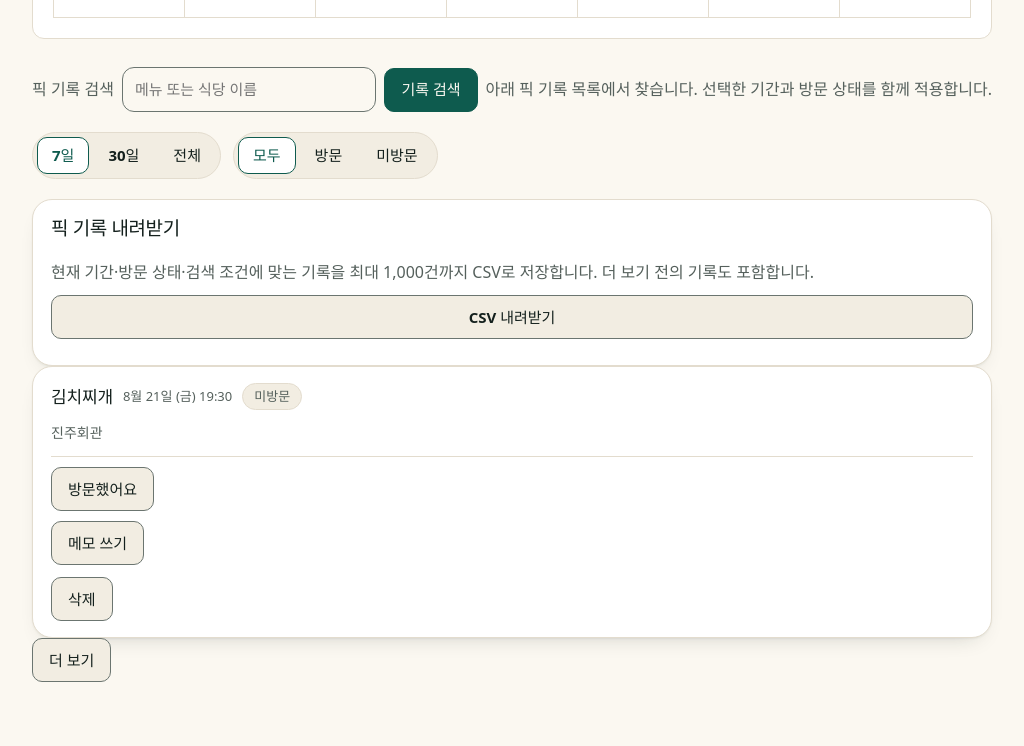
it: 이력의 메뉴 ID로 식당 선택 › 다음 페이지의 기록에도 해당 메뉴 ID를 사용한다
This screenshot has width=1024, height=746.
(page scrolled)
Click the button "더 보기" at [72, 660], box [32, 638, 111, 682]
(page scrolled)
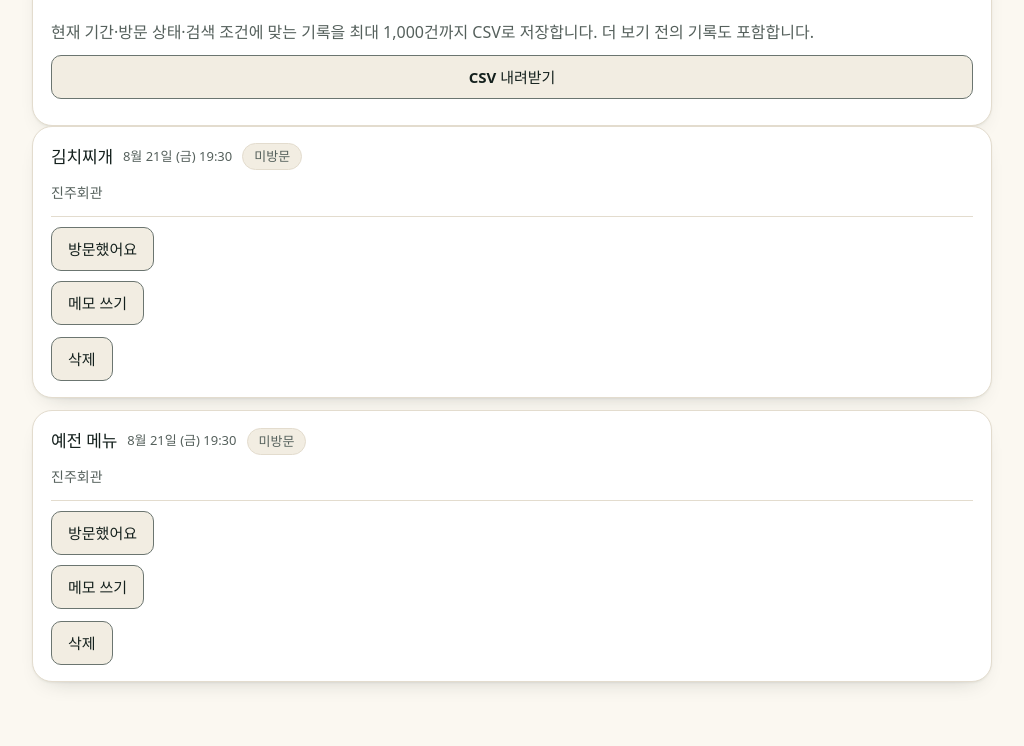
Click the button with aria-label "예전 메뉴 방문했어요" at [102, 533], box [51, 511, 154, 555]
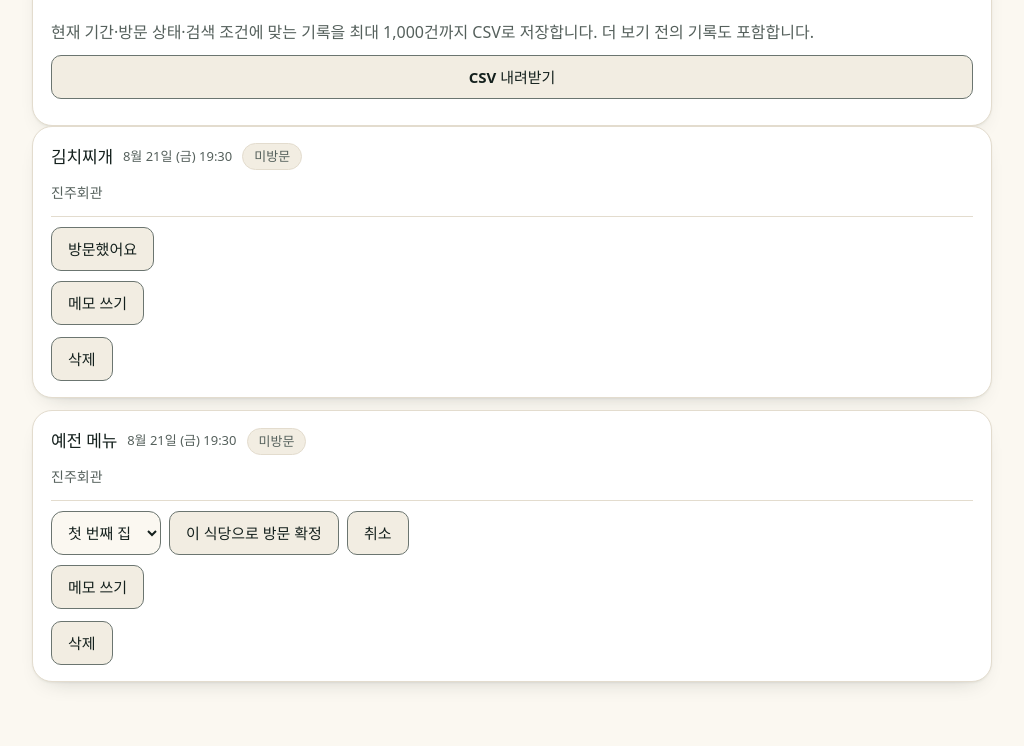
Result: the dropdown named "예전 메뉴 방문 식당 선택" is shown at [51, 511, 161, 555]
